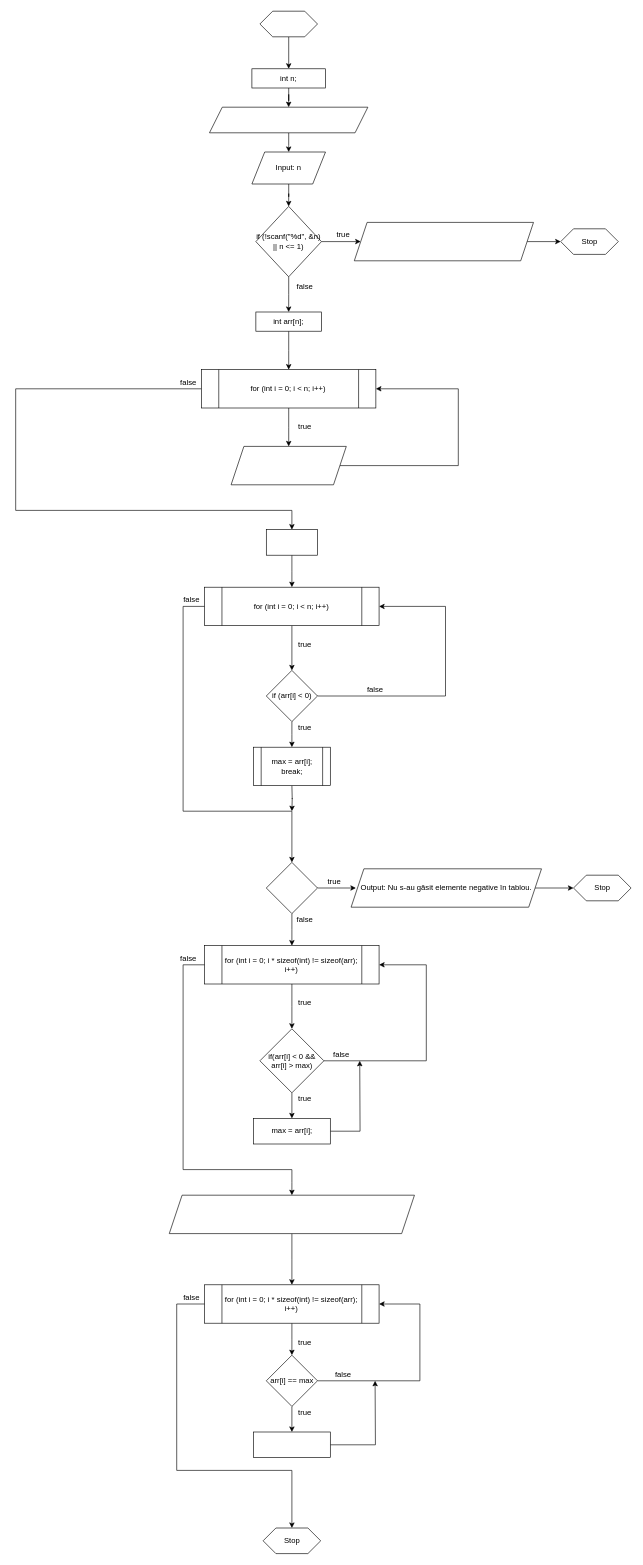
Some shapes in this 643 by 1565 pixel diagram are drawn without their labels. The shapes that lost their labels are listed below. From the top down, each one's centre as x and y in pixels, then its label:
[288,24]: Start
[288,120]: Output: Câte numere (n > 1) doriți să introduceți?
[444,241]: Output: Valoare invalidă.
[288,465]: printf("%d: ", i);
[292,542]: int max = 0;
[292,888]: if (max >= 0)
[291,1214]: printf("Pozițiile numărului maximal negativ %d în tablou: ", max);
[291,1444]: printf("%d ", i)
